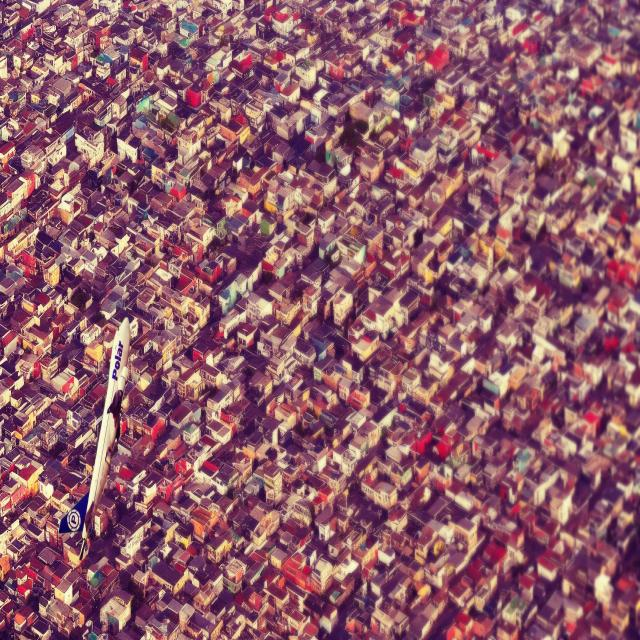airplane: (58, 315, 132, 565)
